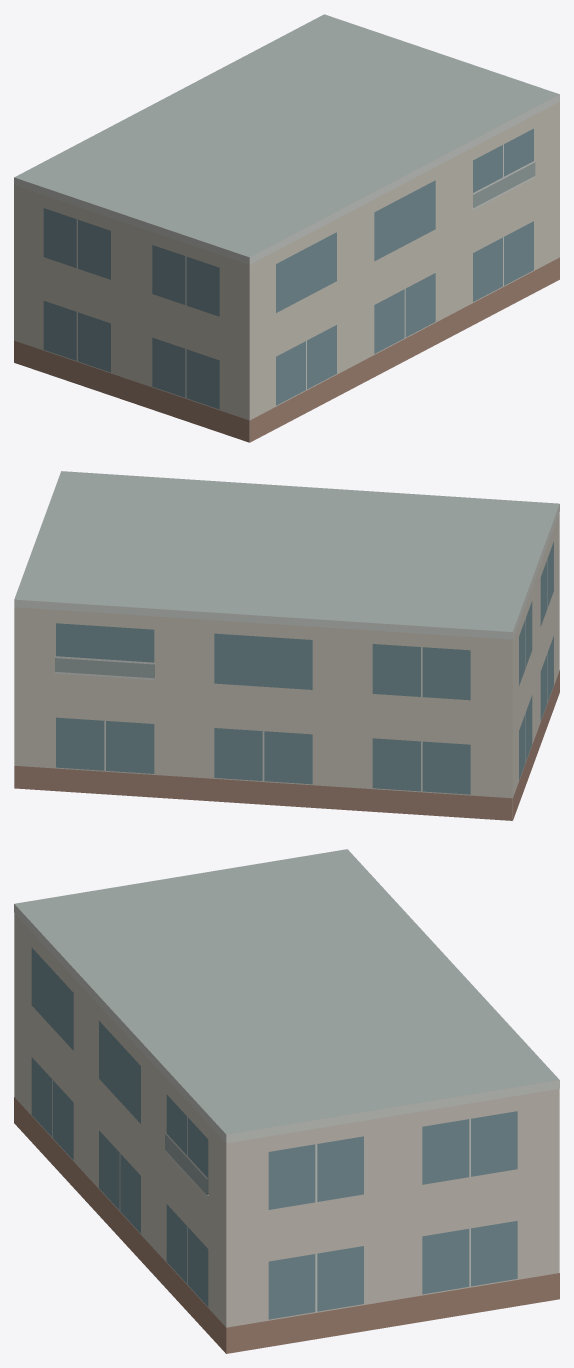
The model's file is survey-upis-32857441.glb.
3 views of the same model, one above another, from view 1: azimuth 30°, elevation 25°; view 2: azimuth 150°, elevation 25°; view 3: azimuth 270°, elevation 25° (orthographic). The views are drawn at different scales.
Parts seen in each view (by area): view 1: survey-upis-32857441.tmp; view 2: survey-upis-32857441.tmp; view 3: survey-upis-32857441.tmp.
Part boxes in pixels (box(x1,y1,x2,y2)): survey-upis-32857441.tmp: box(14, 14, 559, 442); survey-upis-32857441.tmp: box(14, 471, 559, 820); survey-upis-32857441.tmp: box(14, 849, 559, 1353).
Size of the model in its own units: 17.05 by 6.1 by 13.77.
